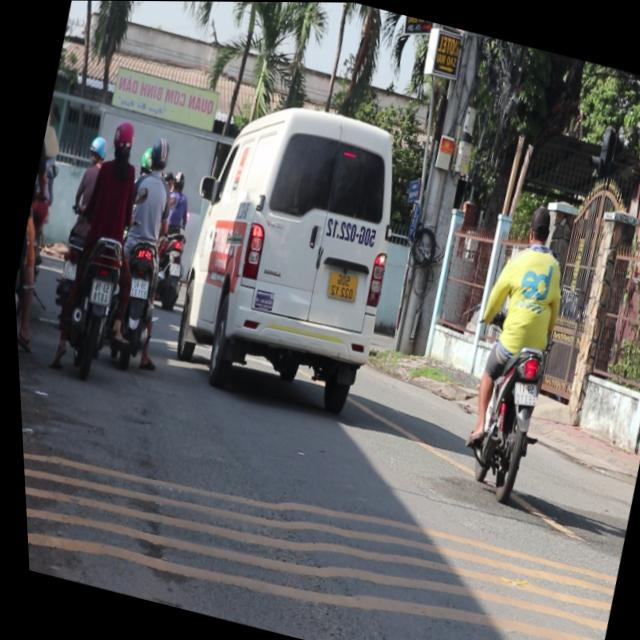helmet: (521, 200, 555, 248)
licenseplate: (436, 192, 593, 500), (28, 107, 165, 377), (85, 126, 200, 373)
motorcyclist: (507, 377, 535, 405), (85, 276, 110, 303), (126, 275, 147, 296)
nohelmet: (106, 115, 139, 160), (145, 133, 173, 172)
